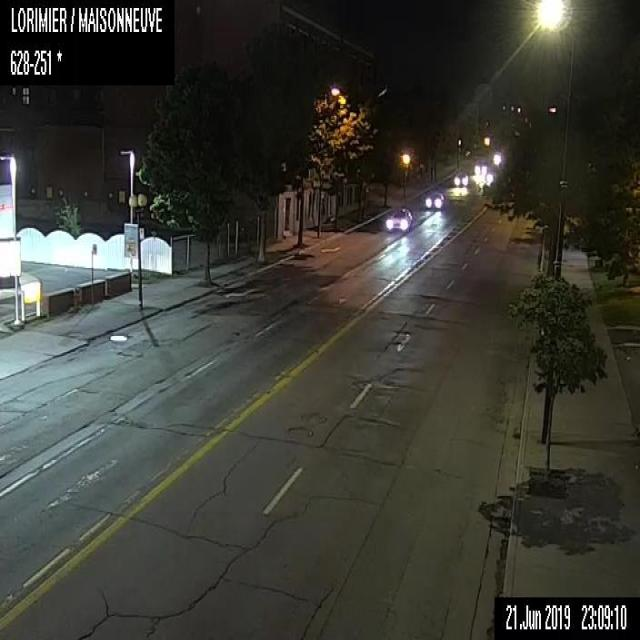vehicle: (384, 205, 412, 231), (422, 188, 443, 209), (452, 170, 470, 184), (473, 158, 488, 174)
